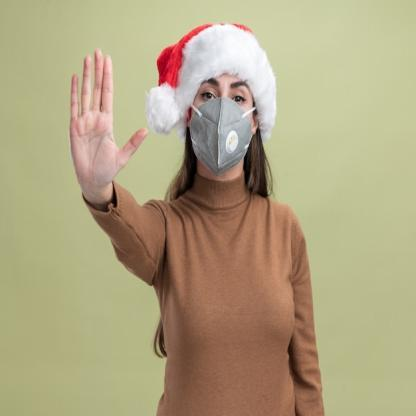stop: (63, 45, 149, 208)
